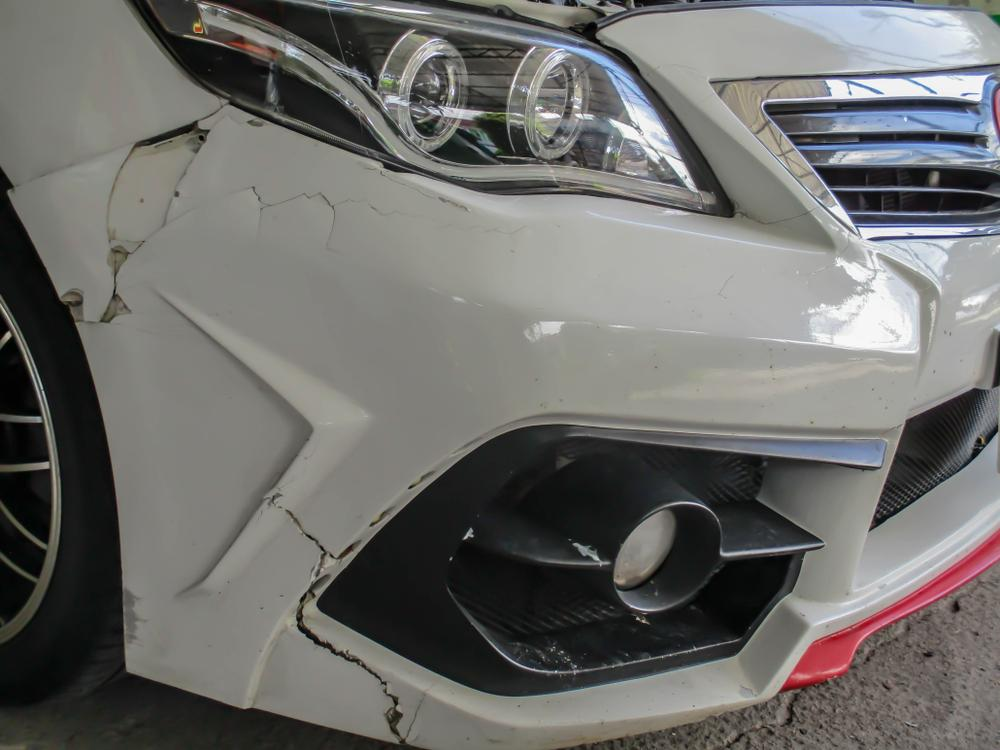crack: (62, 119, 528, 325), (264, 493, 429, 745), (374, 168, 470, 212)
